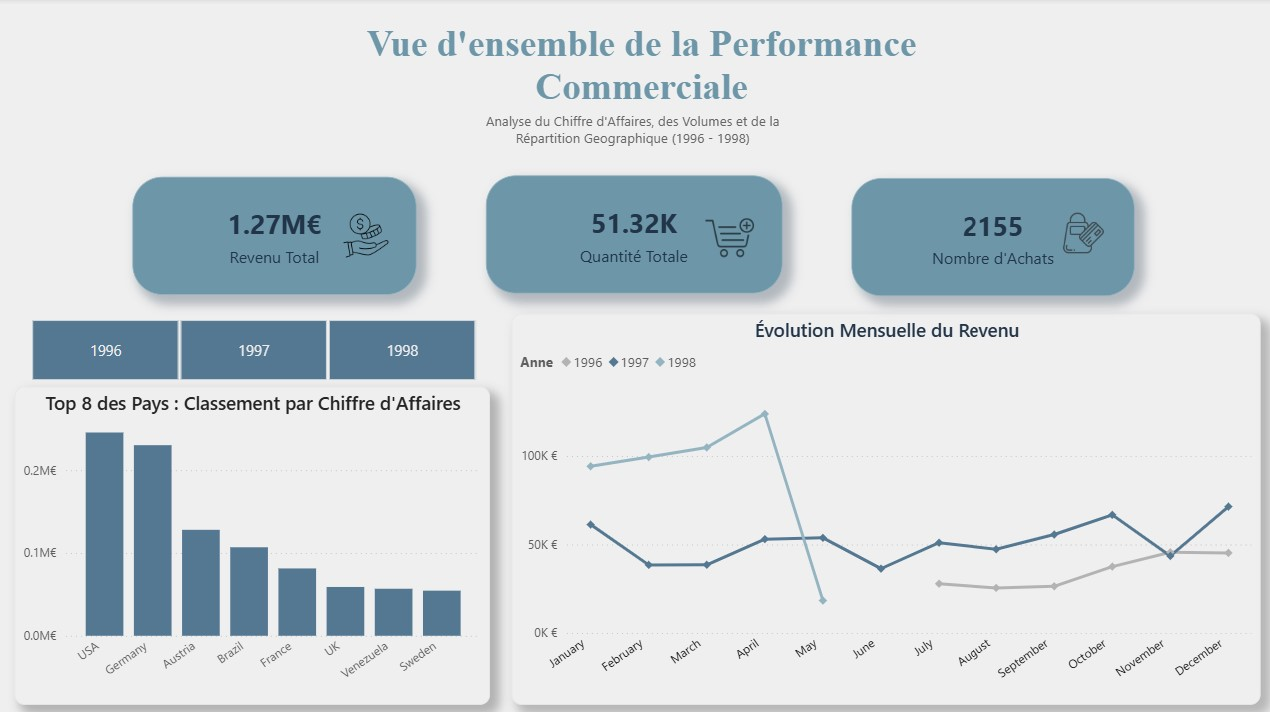

What the dashboard file says about the page in this screenshot:
{"tool":"powerbi","page":{"name":"Page 1","canvas":[1280,720],"ordinal":0},"visuals":[{"type":"card","title":"REVENU TOTAL","fields":{"Values":["Sum(Fact_Ventes.Montant)"]},"box":[135.5,178.8,284.5,117.9],"z":0},{"type":"card","title":"UNITÉS VENDUES","fields":{"Values":["Sum(Fact_Ventes.Quantity)"]},"box":[489.1,177.5,296.7,117.9],"z":1000},{"type":"slicer","fields":{"Values":["Dim_Temps.Anne"]},"box":[9.5,315.7,493.2,73.2],"z":2000},{"type":"lineChart","title":"Évolution Mensuelle du Revenu","fields":{"Y":["Sum(Fact_Ventes.Montant)"],"Category":["Dim_Temps.Nom_Moins"],"Series":["Dim_Temps.Anne"]},"box":[514.9,315.7,750.6,391.6],"z":3000},{"type":"card","fields":{"Values":["Fact_Ventes.Total Orders"]},"box":[854.9,180.2,284.5,117.9],"z":4000},{"type":"columnChart","title":"Top 8 des Pays : Classement par Chiffre d''Affaires","fields":{"Category":["Dim_Client.Pays"],"Y":["Sum(Fact_Ventes.Montant)"]},"box":[17.6,388.9,475.6,318.4],"z":5000},{"type":"textbox","box":[345.5,1.4,598.9,117.9],"z":6000},{"type":"textbox","box":[463.4,108.4,345.5,69.1],"z":7000},{"type":"image","box":[345.5,214.1,47.4,47.4],"z":8000},{"type":"image","box":[1066.3,214.1,43.4,42],"z":9000},{"type":"image","box":[707.3,215.4,51.5,48.8],"z":10000}]}

Visuals, with their boxes in screenshot pixels (x1, y1, x2, y2), scaled from the page's 1280x720 canvas onto the 1270x712 screenshot:
"REVENU TOTAL" card: crop(134, 177, 417, 293)
"UNITÉS VENDUES" card: crop(485, 176, 780, 292)
slicer - Dim_Temps.Anne: crop(9, 312, 499, 385)
"Évolution Mensuelle du Revenu" lineChart: crop(511, 312, 1256, 699)
card - Fact_Ventes.Total Orders: crop(848, 178, 1130, 295)
"Top 8 des Pays : Classement par Chiffre d''Affaires" columnChart: crop(17, 385, 489, 699)
textbox: crop(343, 1, 937, 118)
textbox: crop(460, 107, 803, 176)
image: crop(343, 212, 390, 259)
image: crop(1058, 212, 1101, 253)
image: crop(702, 213, 753, 261)
